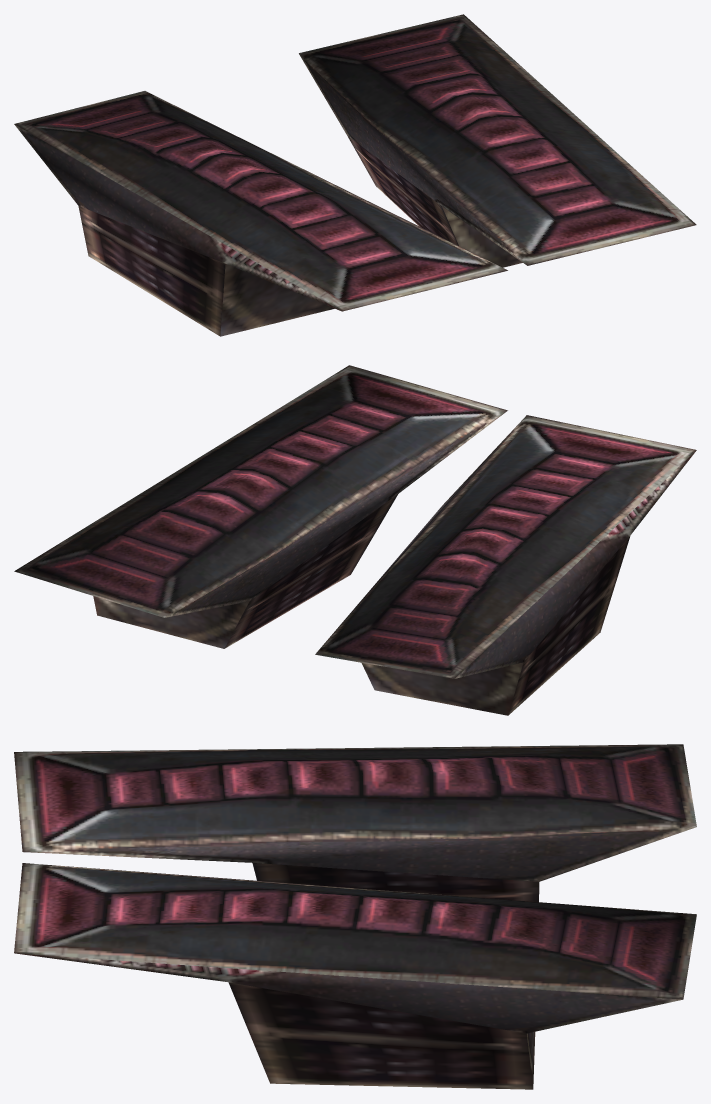
Rendered from ArmPads4__BOS.glb.
3 views of the same model, one above another, from view 1: azimuth 30°, elevation 25°; view 2: azimuth 150°, elevation 25°; view 3: azimuth 270°, elevation 25° (orthographic). The views are drawn at different scales.
Parts seen in each view (by area): view 1: ArmPads4; view 2: ArmPads4; view 3: ArmPads4.
Part boxes in pixels (box(x1,y1,x2,y2)): ArmPads4: box(14, 14, 696, 336); ArmPads4: box(14, 365, 696, 715); ArmPads4: box(14, 744, 696, 1089).
Bounding box in the file's own units: 15.19 × 3.86 × 17.06.
Materials: 1 (1 with a texture image).
